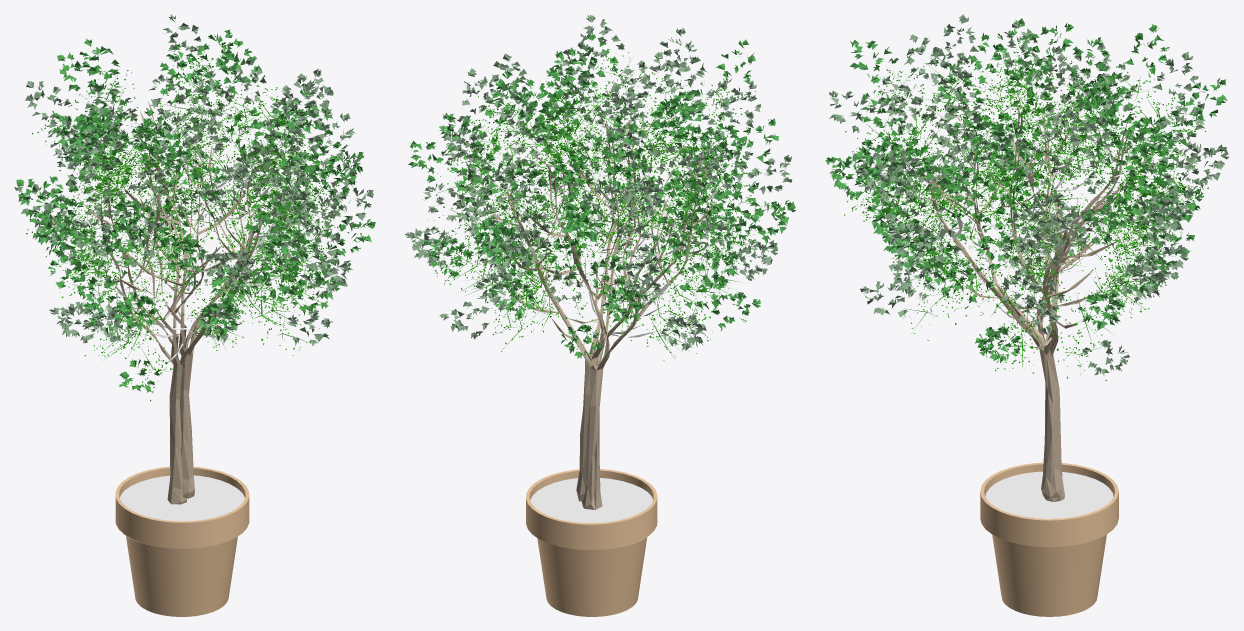
The model's file is tree-gian.glb.
The picture shows the model from 3 angles, left to right: view 1: azimuth 30°, elevation 25°; view 2: azimuth 150°, elevation 25°; view 3: azimuth 270°, elevation 25°; orthographic projection. The views are drawn at different scales.
Parts seen in each view (by area): view 1: objArch31_#3_001, objArch31_#5_001, Obj_000002#1_001, objArch31_#4_001, objArch31_#6_001, objArch31_#7_001, Obj_000001#1_001, objArch31_#9_001, objArch31_#8_001; view 2: objArch31_#3_001, objArch31_#5_001, Obj_000002#1_001, objArch31_#4_001, objArch31_#6_001, objArch31_#7_001, Obj_000001#1_001, objArch31_#9_001, objArch31_#8_001; view 3: objArch31_#5_001, objArch31_#3_001, Obj_000002#1_001, objArch31_#4_001, objArch31_#7_001, objArch31_#6_001, Obj_000001#1_001, objArch31_#8_001, objArch31_#9_001.
Part boxes in pixels (x1=…): objArch31_#3_001: x1=16, y1=29, x2=375, y2=392; objArch31_#5_001: x1=14, y1=14, x2=373, y2=346; Obj_000002#1_001: x1=115, y1=466, x2=249, y2=616; objArch31_#4_001: x1=80, y1=101, x2=293, y2=504; objArch31_#6_001: x1=26, y1=63, x2=350, y2=401; objArch31_#7_001: x1=32, y1=48, x2=362, y2=357; Obj_000001#1_001: x1=120, y1=475, x2=244, y2=521; objArch31_#9_001: x1=54, y1=68, x2=338, y2=378; objArch31_#8_001: x1=51, y1=63, x2=330, y2=358; objArch31_#3_001: x1=408, y1=34, x2=795, y2=358; objArch31_#5_001: x1=405, y1=14, x2=792, y2=350; Obj_000002#1_001: x1=526, y1=469, x2=657, y2=616; objArch31_#4_001: x1=483, y1=119, x2=723, y2=509; objArch31_#6_001: x1=436, y1=74, x2=772, y2=357; objArch31_#7_001: x1=428, y1=52, x2=774, y2=360; Obj_000001#1_001: x1=530, y1=478, x2=652, y2=522; objArch31_#9_001: x1=437, y1=92, x2=751, y2=362; objArch31_#8_001: x1=448, y1=60, x2=756, y2=355; objArch31_#5_001: x1=829, y1=14, x2=1228, y2=375; objArch31_#3_001: x1=825, y1=18, x2=1227, y2=362; Obj_000002#1_001: x1=980, y1=462, x2=1118, y2=616; objArch31_#4_001: x1=899, y1=98, x2=1151, y2=501; objArch31_#7_001: x1=845, y1=61, x2=1208, y2=380; objArch31_#6_001: x1=844, y1=43, x2=1205, y2=373; Obj_000001#1_001: x1=985, y1=471, x2=1113, y2=518; objArch31_#8_001: x1=856, y1=68, x2=1193, y2=364; objArch31_#9_001: x1=864, y1=63, x2=1198, y2=367.
Size of the model in its own units: 1.84 by 2.99 by 1.96.
